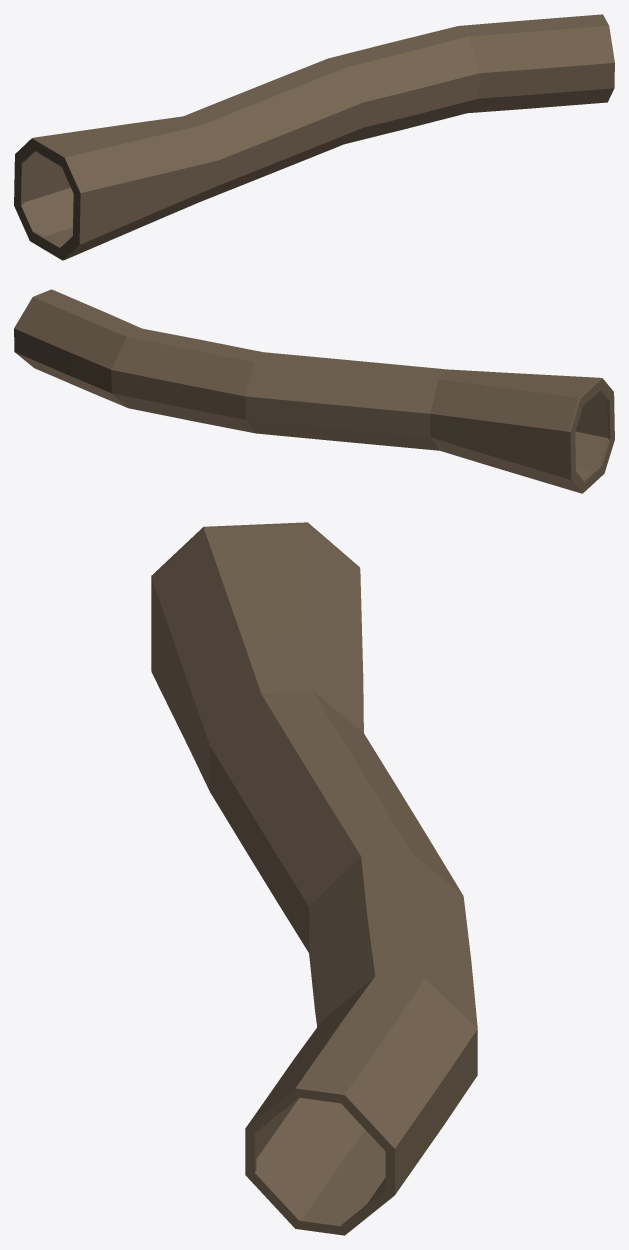
Rendered from tree trunk.glb.
The picture shows the model from 3 angles, top to bottom: view 1: azimuth 30°, elevation 25°; view 2: azimuth 150°, elevation 25°; view 3: azimuth 270°, elevation 25°; orthographic projection. The views are drawn at different scales.
Parts seen in each view (by area): view 1: Plane.071_tree_trunk_0; view 2: Plane.071_tree_trunk_0; view 3: Plane.071_tree_trunk_0.
Boxes of the visible parts, <box> form: Plane.071_tree_trunk_0: <box>14,14,614,260</box>; Plane.071_tree_trunk_0: <box>14,289,614,493</box>; Plane.071_tree_trunk_0: <box>151,522,477,1235</box>.
Size of the model in its own units: 2.73 by 0.4528 by 0.7046.
